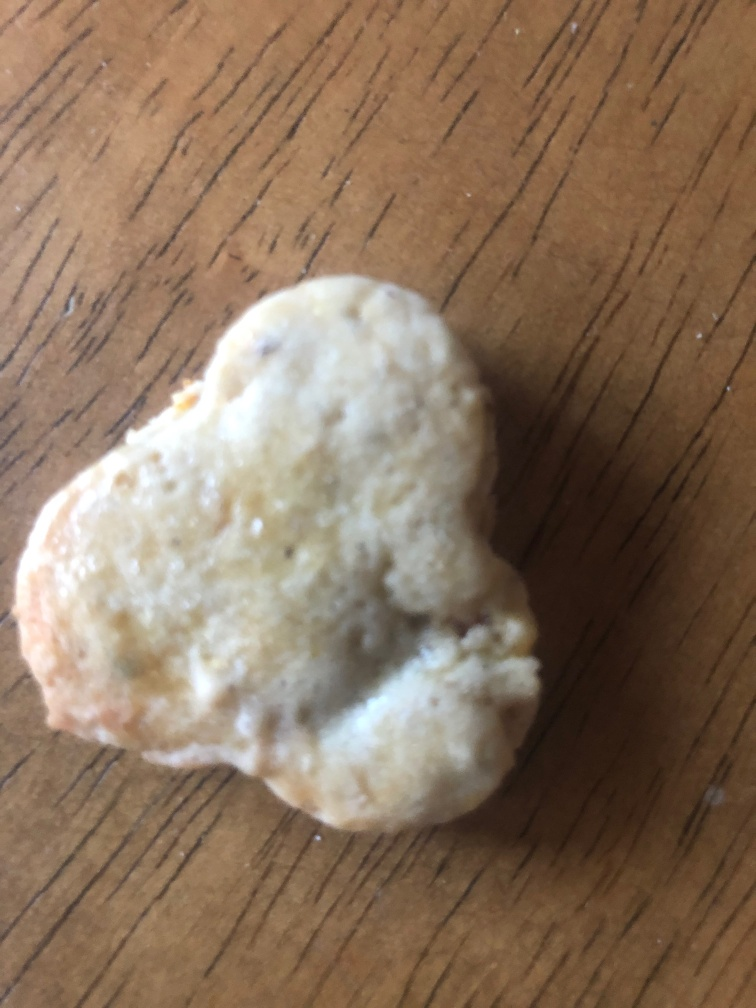flake: (5, 273, 545, 837)
